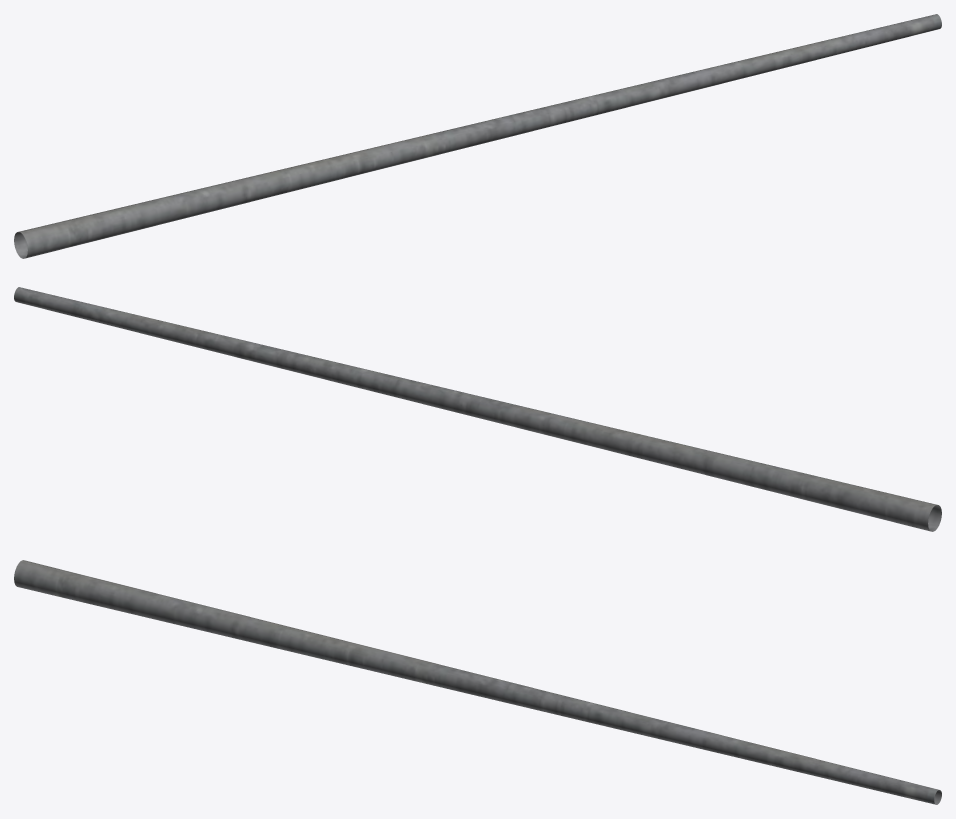
File: armLevel2-v1-galvanised.glb
3 renders of one model, top to bottom at view 1: azimuth 30°, elevation 25°; view 2: azimuth 150°, elevation 25°; view 3: azimuth 330°, elevation 25°, orthographic.
Parts seen in each view (by area): view 1: armLevel2-v1-galvanised; view 2: armLevel2-v1-galvanised; view 3: armLevel2-v1-galvanised.
Part boxes in pixels (x1,y1,x2,y2): armLevel2-v1-galvanised: [14, 14, 941, 258]; armLevel2-v1-galvanised: [14, 287, 941, 531]; armLevel2-v1-galvanised: [14, 560, 941, 804].
Size of the model in its own units: 7.62 by 0.2 by 0.2.
Materials: 1 (1 with a texture image).
